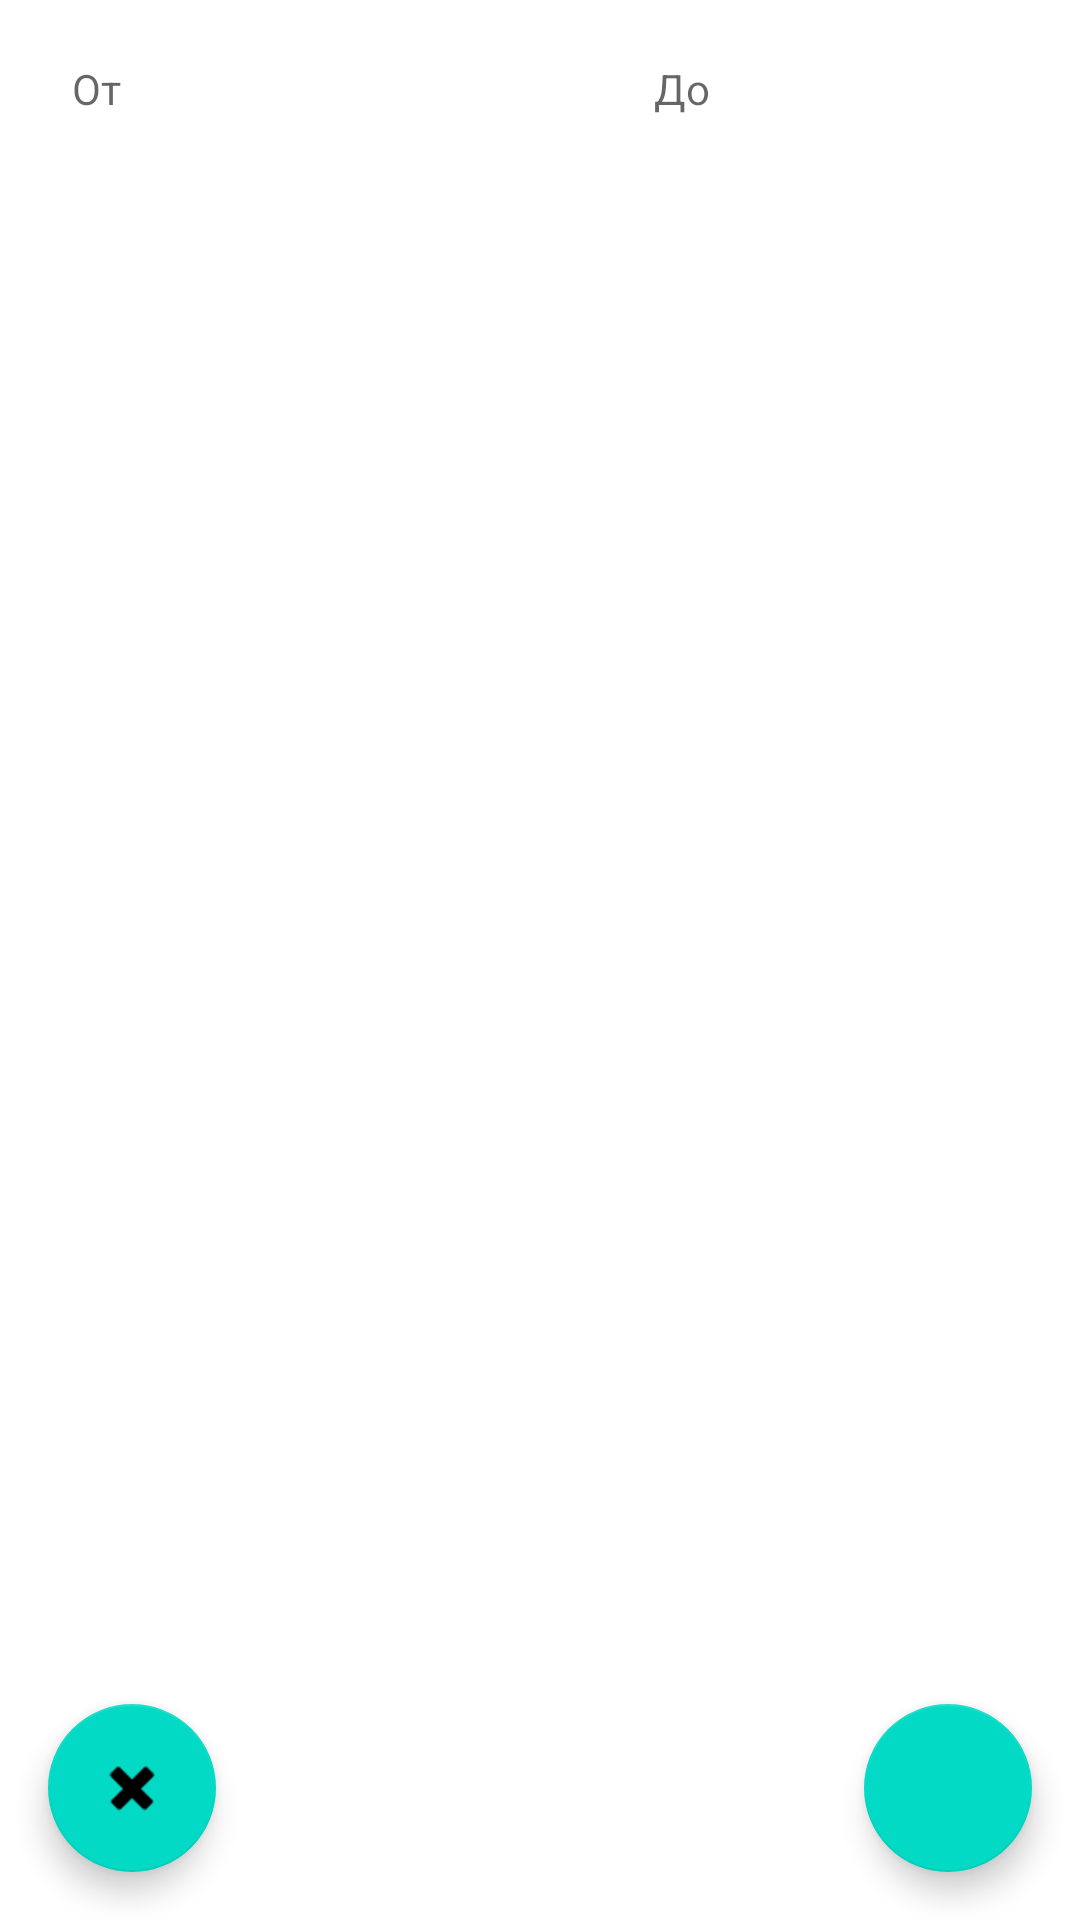

Icon bounding boxes for this 1080×1920 phone screenshot, format {"left": x1, "top": y1, "right": x2, "bottom": y2}:
delete: {"left": 48, "top": 1704, "right": 216, "bottom": 1872}
